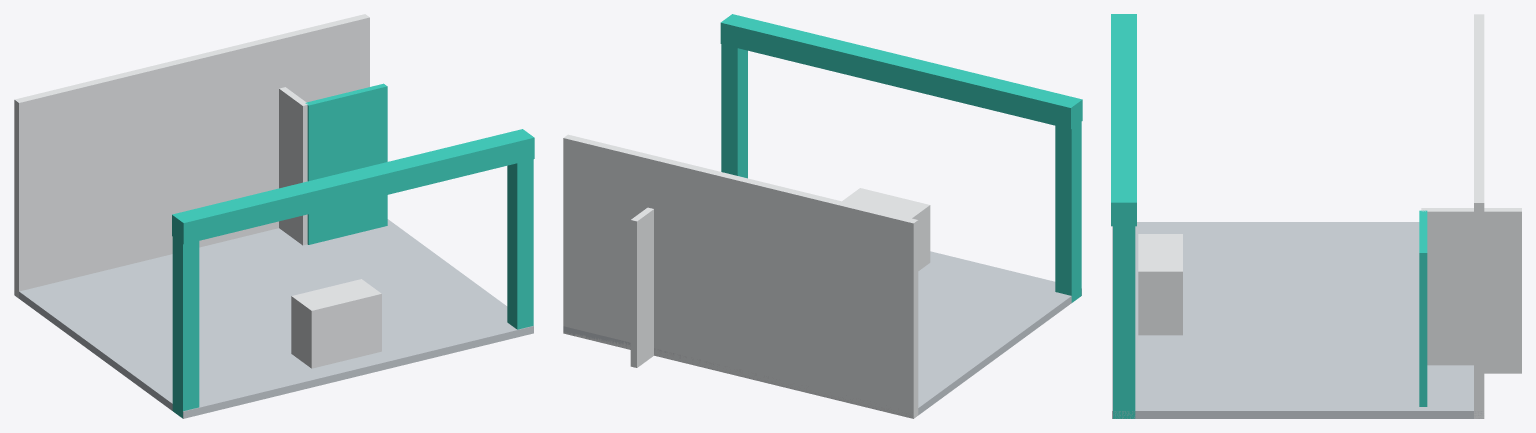
3 views of the same model, side by side, from view 1: azimuth 30°, elevation 25°; view 2: azimuth 150°, elevation 25°; view 3: azimuth 270°, elevation 25° (orthographic). The views are drawn at different scales.
Visible parts, largest first — view 1: Exhibition Booth Concept; view 2: Exhibition Booth Concept; view 3: Exhibition Booth Concept.
Boxes of the visible parts, box(x1,y1,x2,y2) form: Exhibition Booth Concept: box(14, 14, 534, 418); Exhibition Booth Concept: box(563, 14, 1082, 418); Exhibition Booth Concept: box(1111, 14, 1521, 418).
Bounding box in the file's own units: 6 × 3.2 × 5.52.
